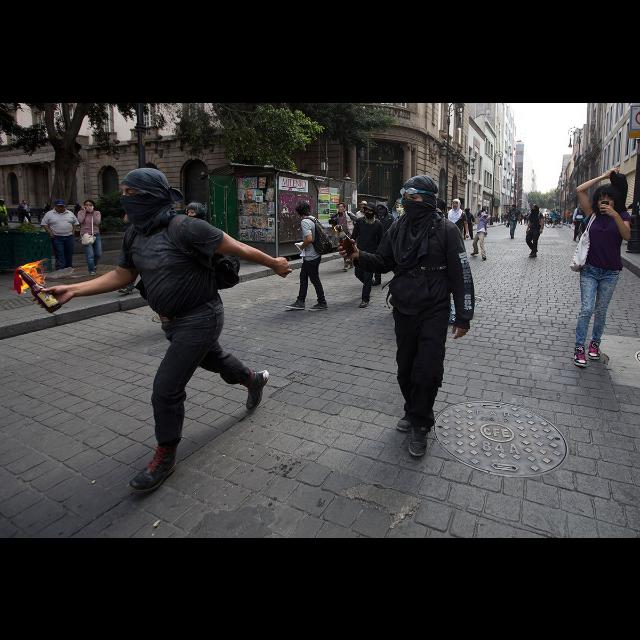head: (120, 166, 172, 224), (404, 174, 436, 218), (596, 185, 618, 213), (187, 202, 207, 222), (140, 178, 158, 196), (294, 199, 312, 217), (434, 197, 446, 215), (364, 204, 378, 218), (375, 201, 387, 215), (54, 201, 66, 213), (85, 199, 95, 211), (452, 198, 462, 210), (337, 202, 347, 212), (360, 200, 368, 212), (531, 204, 539, 212), (482, 210, 488, 216), (0, 200, 4, 206), (464, 208, 470, 212), (578, 201, 582, 207), (23, 199, 27, 203), (76, 201, 80, 205), (448, 206, 452, 210), (482, 206, 486, 210), (512, 204, 516, 208), (568, 208, 570, 212), (497, 212, 499, 214), (502, 213, 504, 215), (505, 213, 507, 215), (521, 213, 523, 215)
person: (30, 166, 298, 497), (364, 166, 480, 464), (572, 164, 634, 370), (157, 200, 229, 328), (116, 174, 172, 296), (419, 194, 469, 330), (283, 196, 335, 312), (348, 201, 387, 309), (362, 200, 401, 288), (39, 196, 81, 274), (326, 199, 366, 273), (442, 195, 471, 272), (76, 198, 104, 276), (352, 197, 376, 259), (468, 209, 494, 261), (524, 204, 546, 258), (572, 198, 590, 242), (442, 204, 456, 246), (474, 205, 492, 237), (506, 202, 522, 238), (460, 206, 476, 240), (0, 196, 12, 230), (17, 200, 33, 222), (21, 198, 34, 224), (74, 200, 82, 223), (566, 208, 572, 225), (495, 210, 501, 223), (504, 212, 508, 225), (520, 212, 524, 225), (500, 212, 504, 224)
